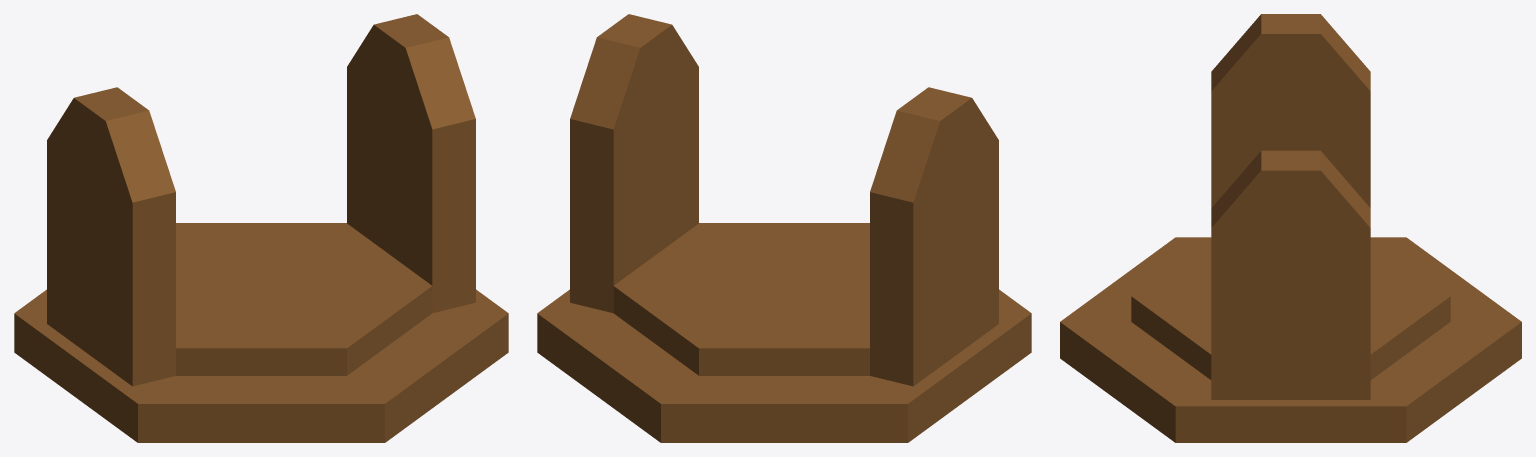
File: Cannon Holder.fbx
3 views of the same model, side by side, from view 1: azimuth 30°, elevation 25°; view 2: azimuth 150°, elevation 25°; view 3: azimuth 270°, elevation 25° (orthographic). The views are drawn at different scales.
Parts seen in each view (by area): view 1: Cannon Holder; view 2: Cannon Holder; view 3: Cannon Holder.
Part boxes in pixels (x1=…): Cannon Holder: x1=14, y1=14, x2=508, y2=442; Cannon Holder: x1=537, y1=14, x2=1031, y2=442; Cannon Holder: x1=1060, y1=14, x2=1521, y2=442.
Bounding box in the file's own units: 4.36 × 3.2 × 5.03.
